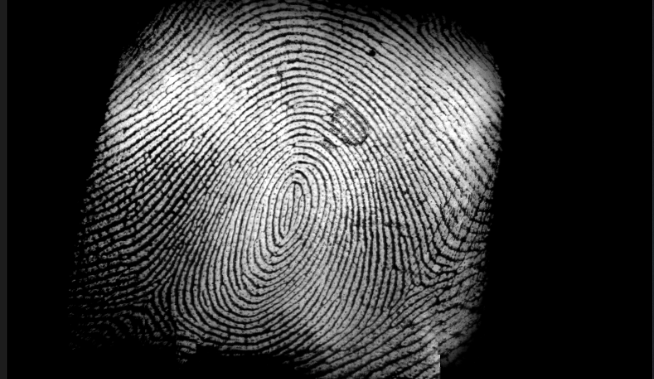nucelo: (277, 188, 300, 232)
verticilo: (138, 284, 162, 309), (403, 275, 425, 295)
